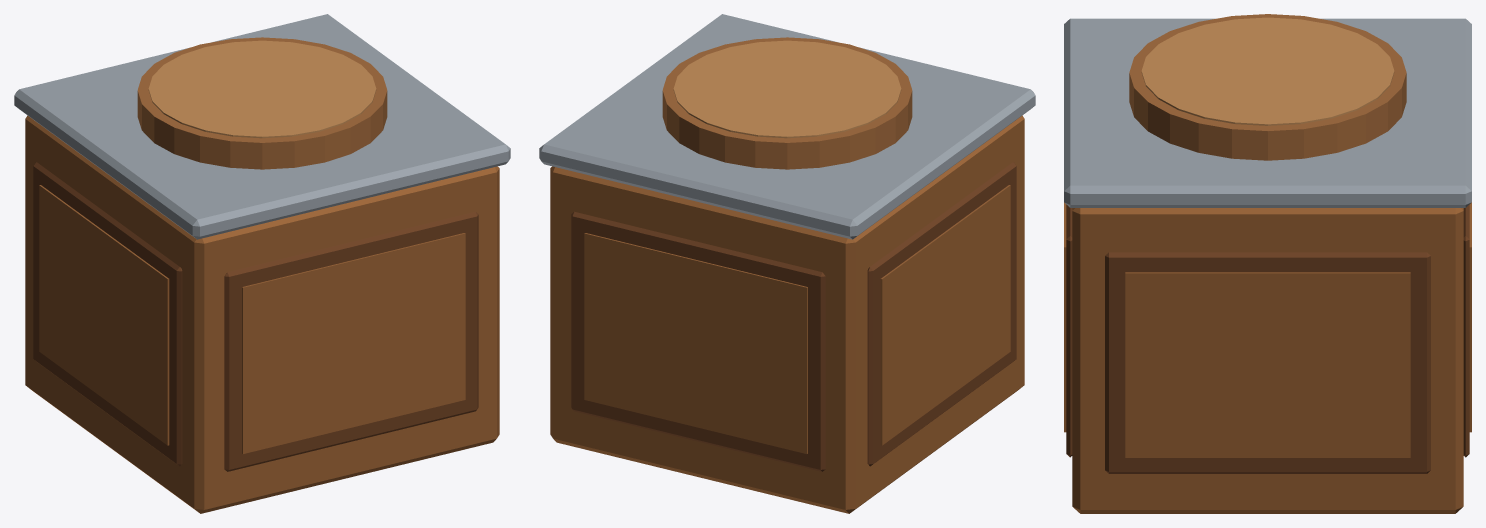
Rendered from counter_board.glb.
3 views of the same model, side by side, from view 1: azimuth 30°, elevation 25°; view 2: azimuth 150°, elevation 25°; view 3: azimuth 270°, elevation 25° (orthographic). The views are drawn at different scales.
Visible parts, largest first — view 1: counter_board; view 2: counter_board; view 3: counter_board.
Boxes of the visible parts, box(x1,y1,x2,y2) form: counter_board: box(14, 14, 510, 513); counter_board: box(539, 14, 1035, 513); counter_board: box(1064, 14, 1471, 513).
Bounding box in the file's own units: 1 × 0.9845 × 1.
